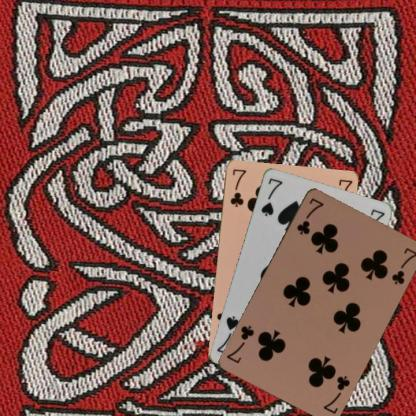7c: (320, 372, 351, 415), (294, 195, 324, 236), (228, 166, 247, 208)
7s: (258, 175, 284, 217)
